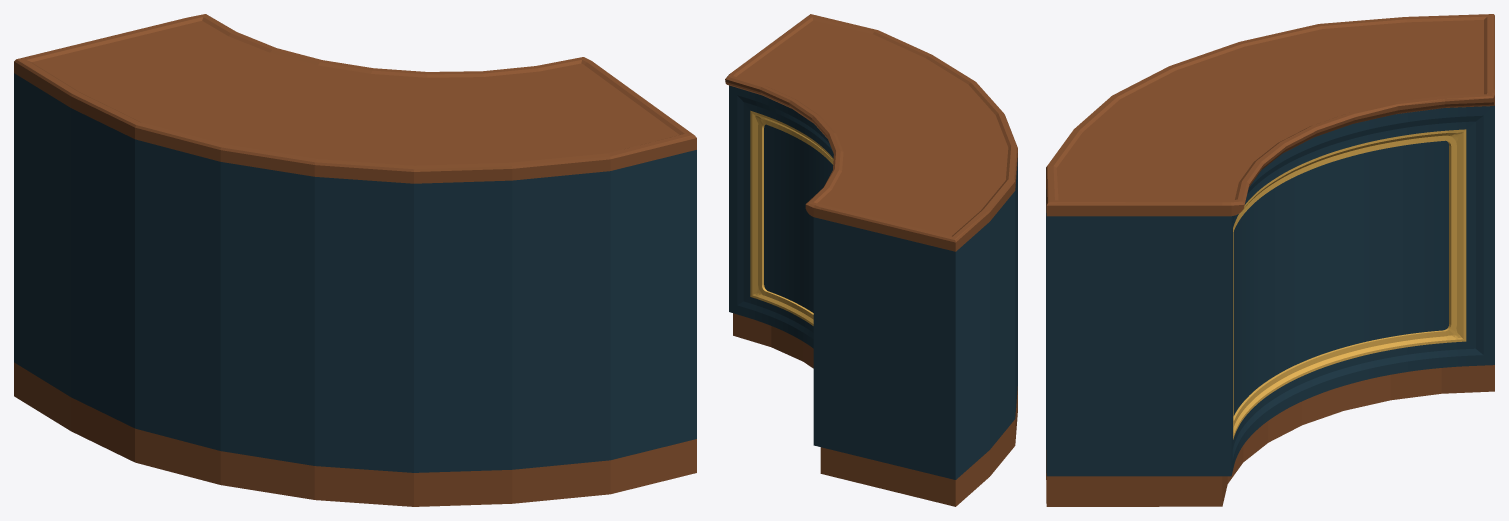
Rendered from KitchenModule_RoundCorner.fbx.
3 renders of one model, left to right at view 1: azimuth 30°, elevation 25°; view 2: azimuth 150°, elevation 25°; view 3: azimuth 270°, elevation 25°, orthographic. The views are drawn at different scales.
Parts seen in each view (by area): view 1: KitchenModule_RoundCorner; view 2: KitchenModule_RoundCorner; view 3: KitchenModule_RoundCorner.
Part boxes in pixels (x1=…): KitchenModule_RoundCorner: x1=14, y1=14, x2=696, y2=506; KitchenModule_RoundCorner: x1=725, y1=14, x2=1017, y2=506; KitchenModule_RoundCorner: x1=1046, y1=14, x2=1494, y2=506.
Bounding box in the file's own units: 269 × 200 × 268.
